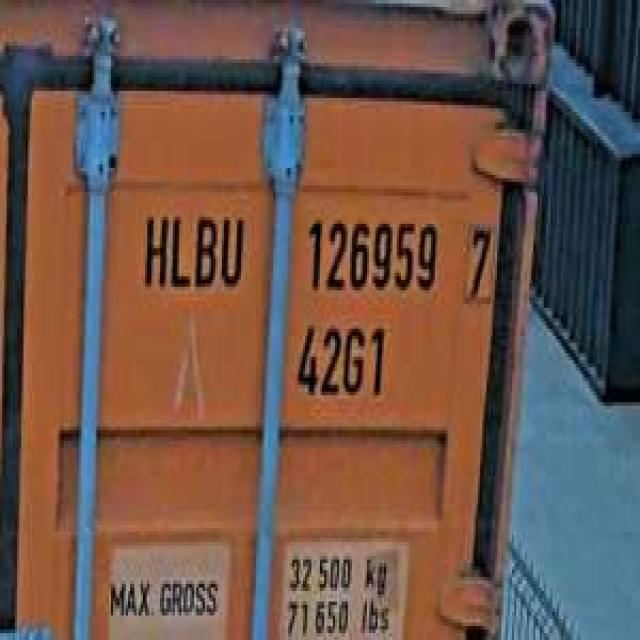dv: (461, 213, 499, 308)
owner: (138, 203, 248, 297)
serial: (300, 206, 442, 301)
size: (292, 311, 388, 406)
